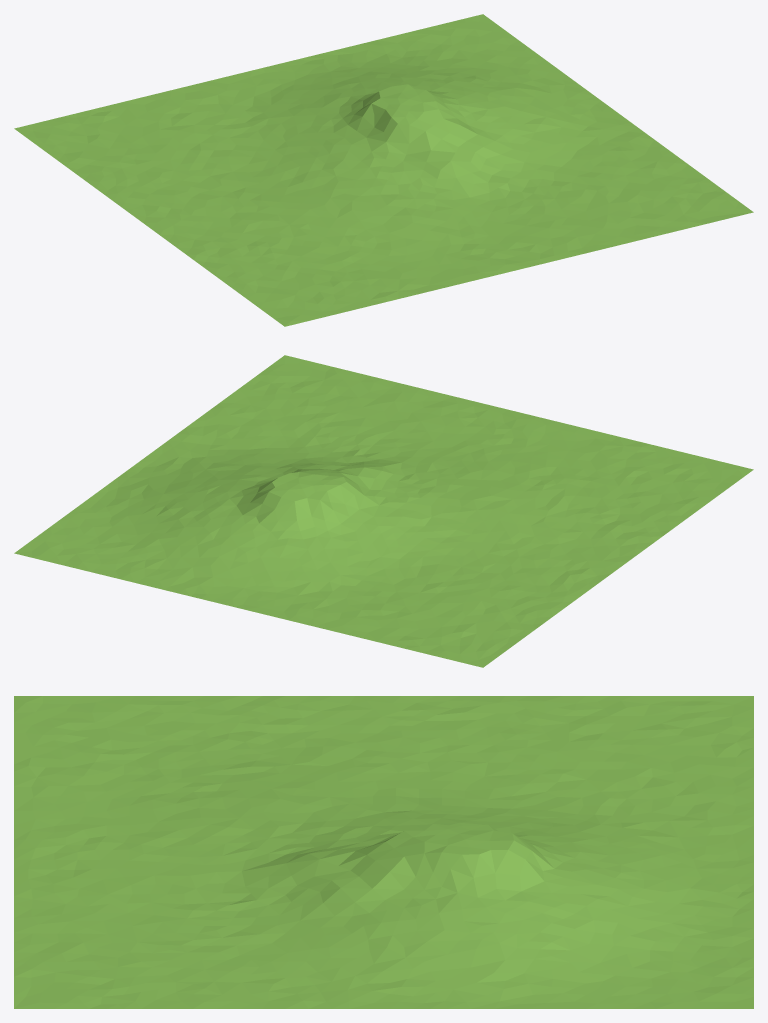
The model's file is MT_Terrain_L_d_15.fbx.
3 renders of one model, top to bottom at view 1: azimuth 30°, elevation 25°; view 2: azimuth 150°, elevation 25°; view 3: azimuth 270°, elevation 25°, orthographic. The views are drawn at different scales.
Parts seen in each view (by area): view 1: MT_Terrain_L_d_15; view 2: MT_Terrain_L_d_15; view 3: MT_Terrain_L_d_15.
Part boxes in pixels (x1,y1,x2,y2): MT_Terrain_L_d_15: (14, 14, 753, 326); MT_Terrain_L_d_15: (14, 355, 753, 667); MT_Terrain_L_d_15: (14, 696, 753, 1008).
Bounding box in the file's own units: 10000 × 746 × 10000.
